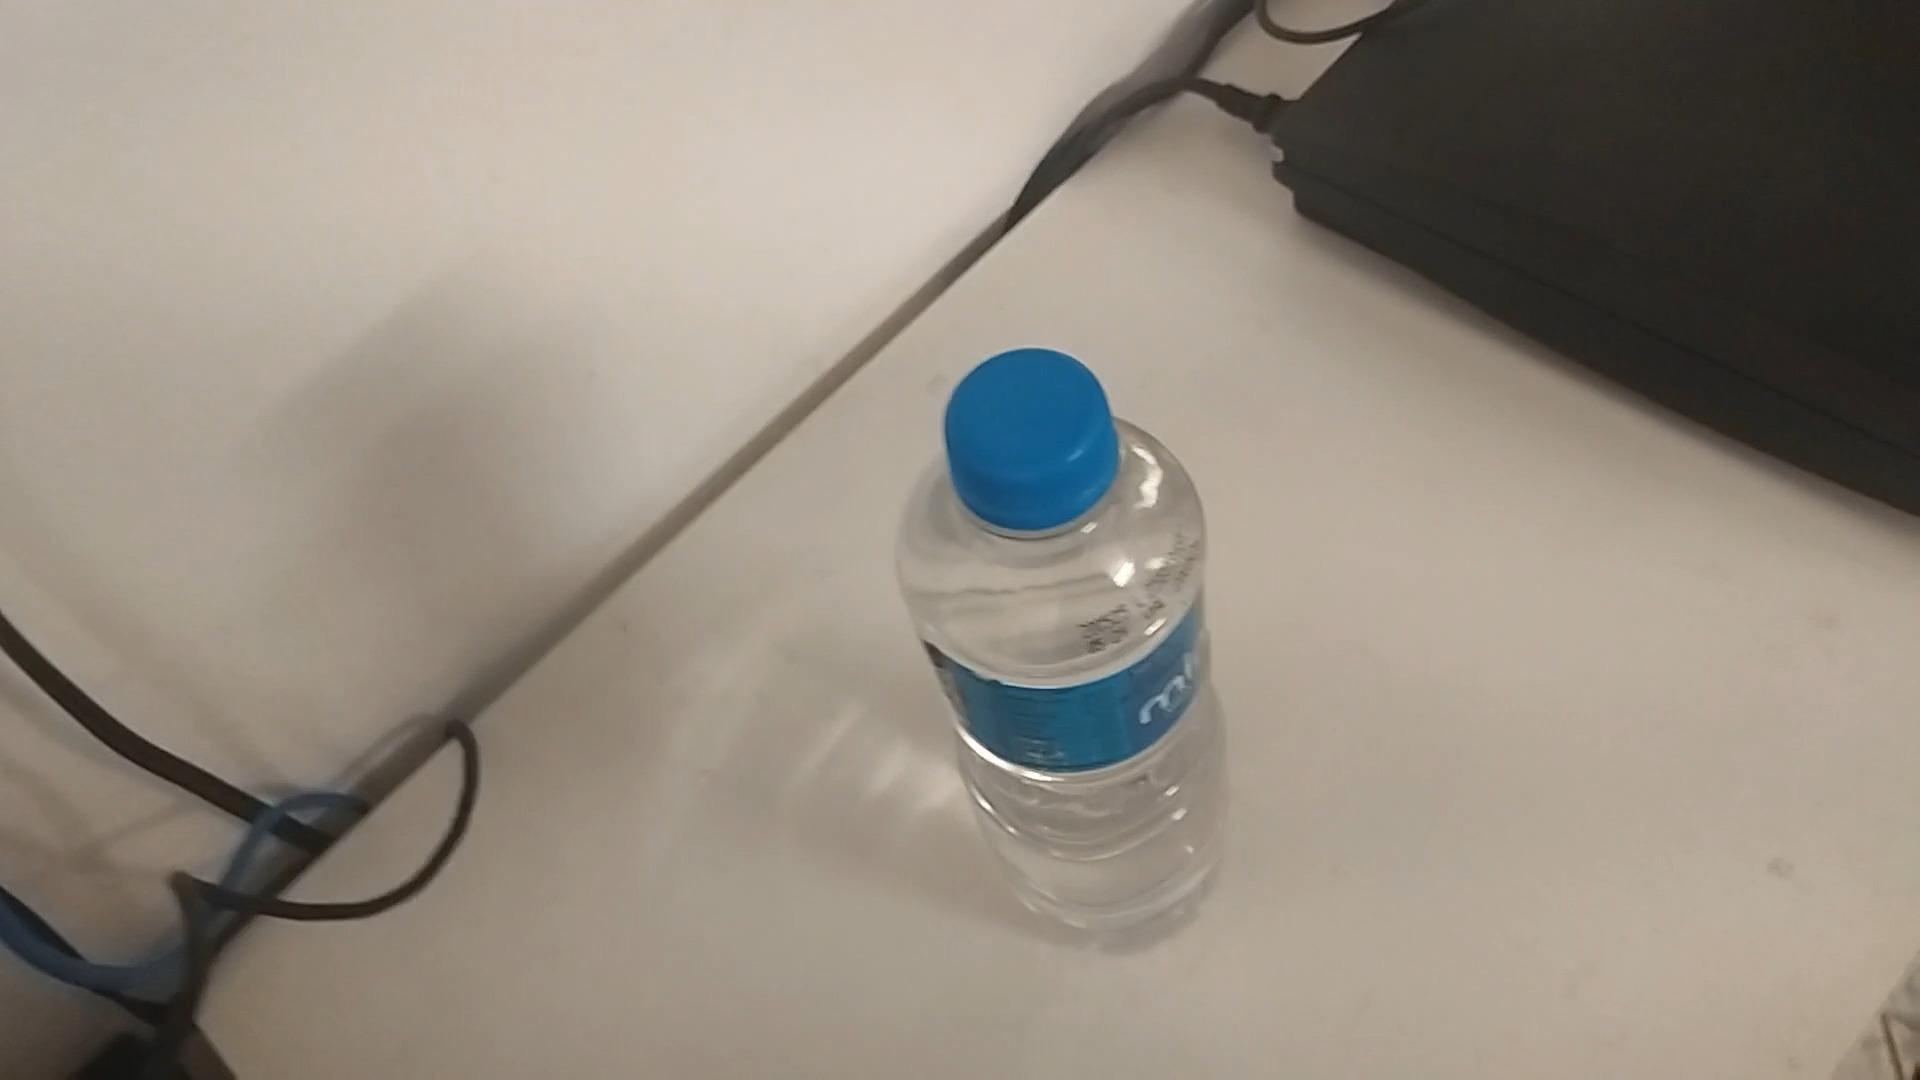agua: (898, 344, 1220, 938)
